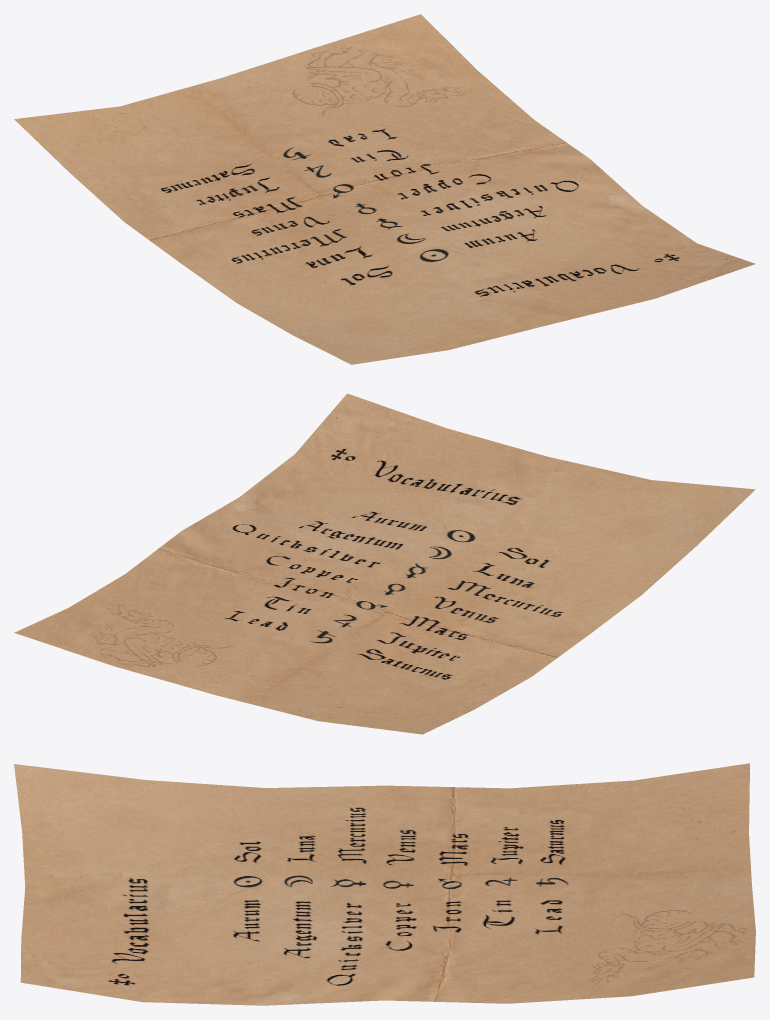
The model's file is vocabularius_model_01.glb.
3 renders of one model, top to bottom at view 1: azimuth 30°, elevation 25°; view 2: azimuth 150°, elevation 25°; view 3: azimuth 270°, elevation 25°, orthographic. The views are drawn at different scales.
Visible parts, largest first — view 1: SM_Letter_02.001; view 2: SM_Letter_02.001; view 3: SM_Letter_02.001.
Boxes of the visible parts, box(x1,y1,x2,y2) form: SM_Letter_02.001: box(14, 14, 755, 364); SM_Letter_02.001: box(14, 393, 755, 734); SM_Letter_02.001: box(14, 763, 755, 1005).
Bounding box in the file's own units: 0.2601 × 0.0163 × 0.3708.
Materials: 1 (1 with a texture image).
